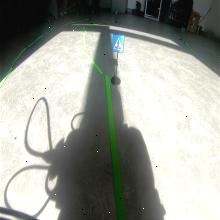crosswalk: (111, 34, 125, 54)
